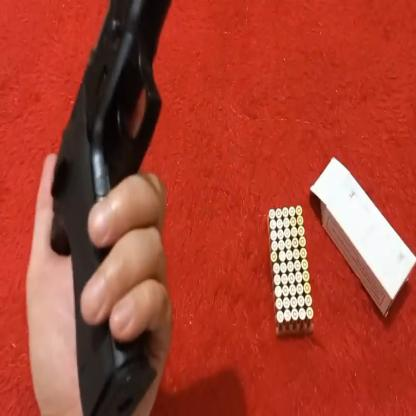handgun: (44, 0, 174, 416)
